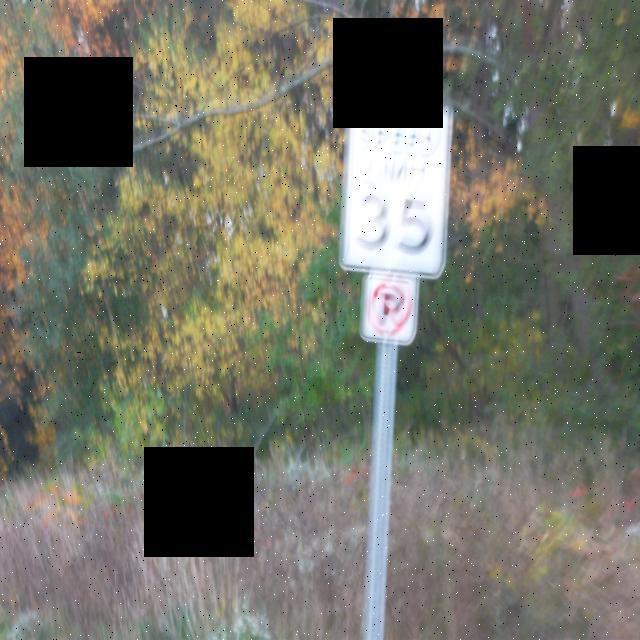regulatory: (341, 102, 453, 282), (362, 269, 419, 347)
